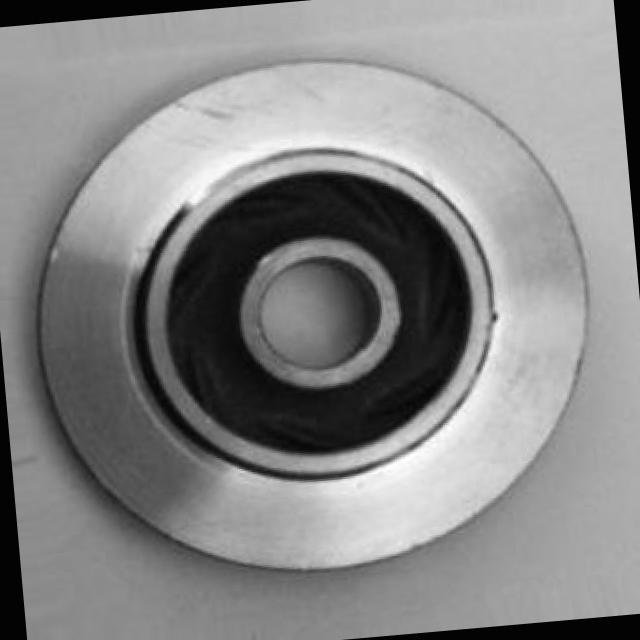Defect: (481, 298, 506, 332)
